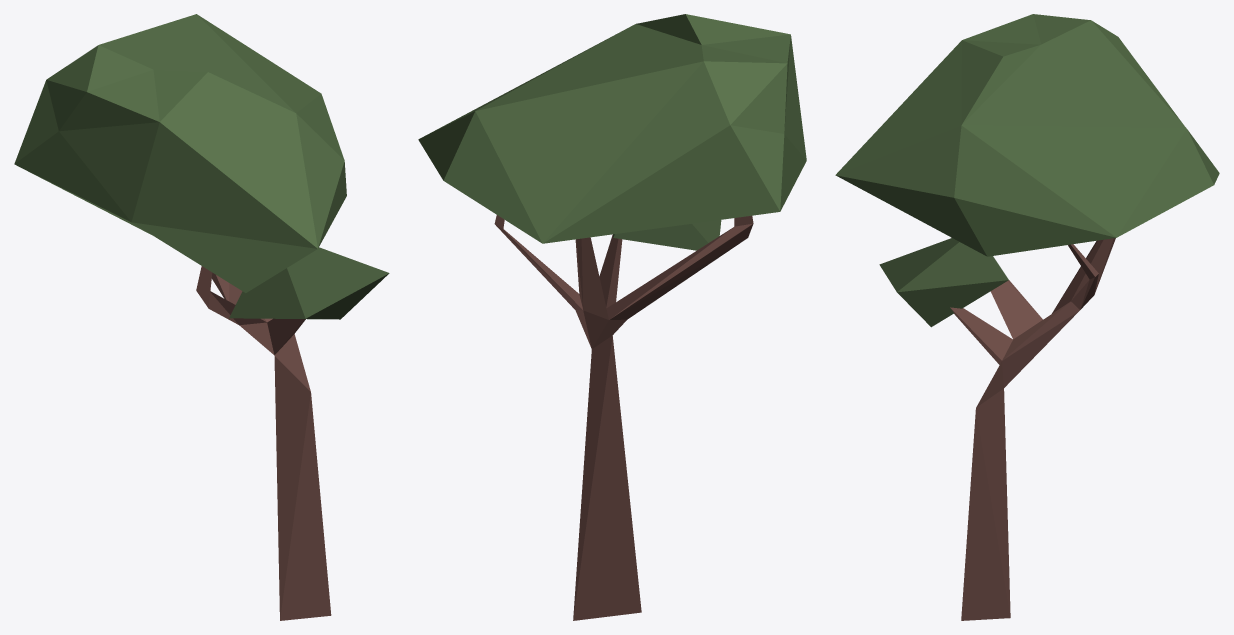
3 views of the same model, side by side, from view 1: azimuth 30°, elevation 25°; view 2: azimuth 150°, elevation 25°; view 3: azimuth 270°, elevation 25° (orthographic). The views are drawn at different scales.
Parts seen in each view (by area): view 1: cube-001; view 2: cube-001; view 3: cube-001.
Boxes of the visible parts, x1,y1,x2,y2 form: cube-001: [14, 14, 389, 620]; cube-001: [418, 14, 806, 620]; cube-001: [835, 14, 1219, 620].
Bounding box in the file's own units: 1.6 × 2.73 × 1.81.
